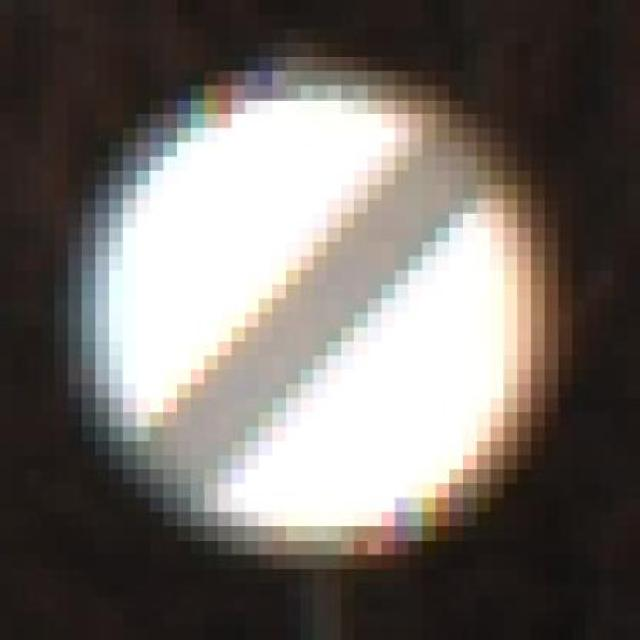End of all speed and passing limits: (68, 57, 572, 569)
